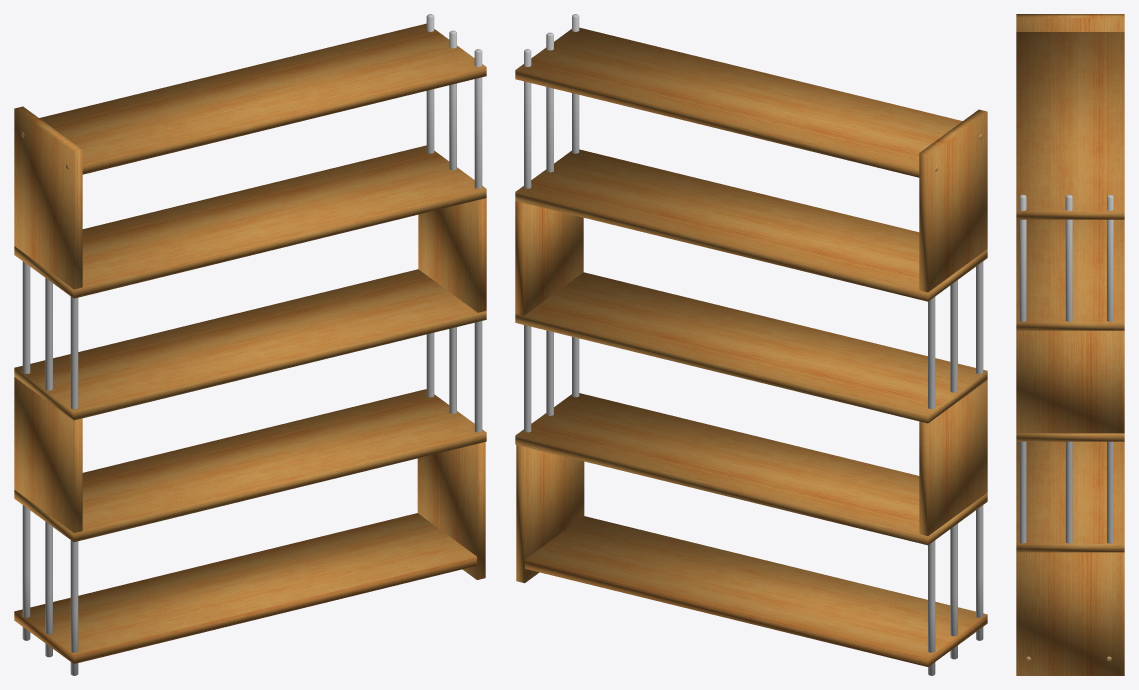
Rendered from shelf2.glb.
3 renders of one model, left to right at view 1: azimuth 30°, elevation 25°; view 2: azimuth 150°, elevation 25°; view 3: azimuth 270°, elevation 25°, orthographic. The views are drawn at different scales.
Parts seen in each view (by area): view 1: Office Shelf; view 2: Office Shelf; view 3: Office Shelf.
Boxes of the visible parts, left/top/right/bottom form: Office Shelf: left=14, top=14, right=486, bottom=675; Office Shelf: left=515, top=14, right=987, bottom=675; Office Shelf: left=1016, top=14, right=1124, bottom=675.
Bounding box in the file's own units: 2.55 × 3.11 × 0.6374.
3 materials, 1 textured.
